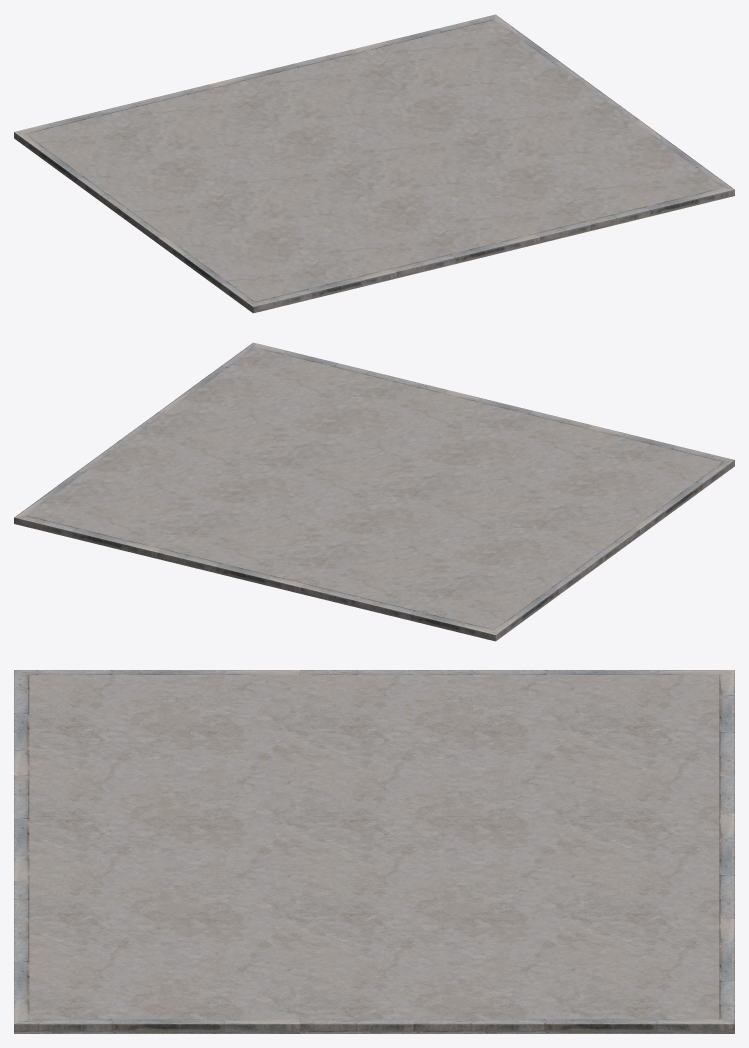
File: SM_Geumsan_Mi_kidan.fbx
3 renders of one model, top to bottom at view 1: azimuth 30°, elevation 25°; view 2: azimuth 150°, elevation 25°; view 3: azimuth 270°, elevation 25°, orthographic. The views are drawn at different scales.
Parts seen in each view (by area): view 1: SM_Geumsan_Mi_kidan; view 2: SM_Geumsan_Mi_kidan; view 3: SM_Geumsan_Mi_kidan.
Part boxes in pixels (x1,y1,x2,y2): SM_Geumsan_Mi_kidan: [14, 14, 734, 313]; SM_Geumsan_Mi_kidan: [14, 342, 734, 641]; SM_Geumsan_Mi_kidan: [14, 670, 734, 1033].
Size of the model in its own units: 2380 by 30.1 by 2047.
